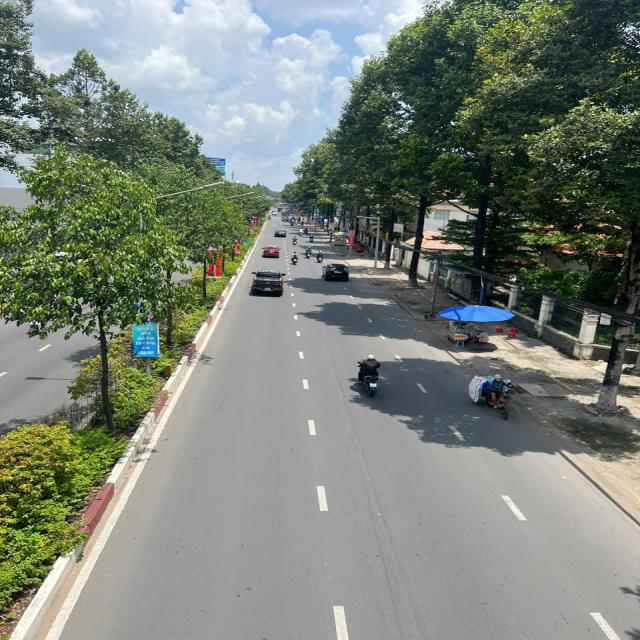Bicycle: (490, 373, 511, 421)
car: (253, 268, 285, 295), (323, 264, 348, 281), (264, 244, 278, 257), (275, 226, 286, 237), (282, 216, 288, 222)
motobyte: (355, 353, 385, 399), (290, 252, 299, 264), (316, 250, 325, 262), (304, 246, 312, 258), (293, 235, 298, 245), (308, 235, 314, 242), (304, 226, 309, 234), (299, 228, 303, 236), (299, 221, 304, 227), (290, 220, 294, 227), (295, 219, 298, 226)
